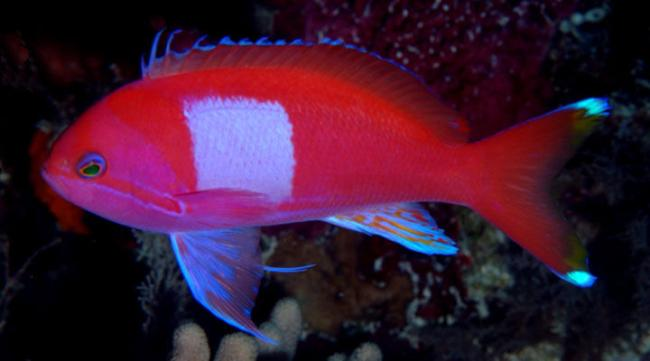fish: (41, 30, 611, 344)
